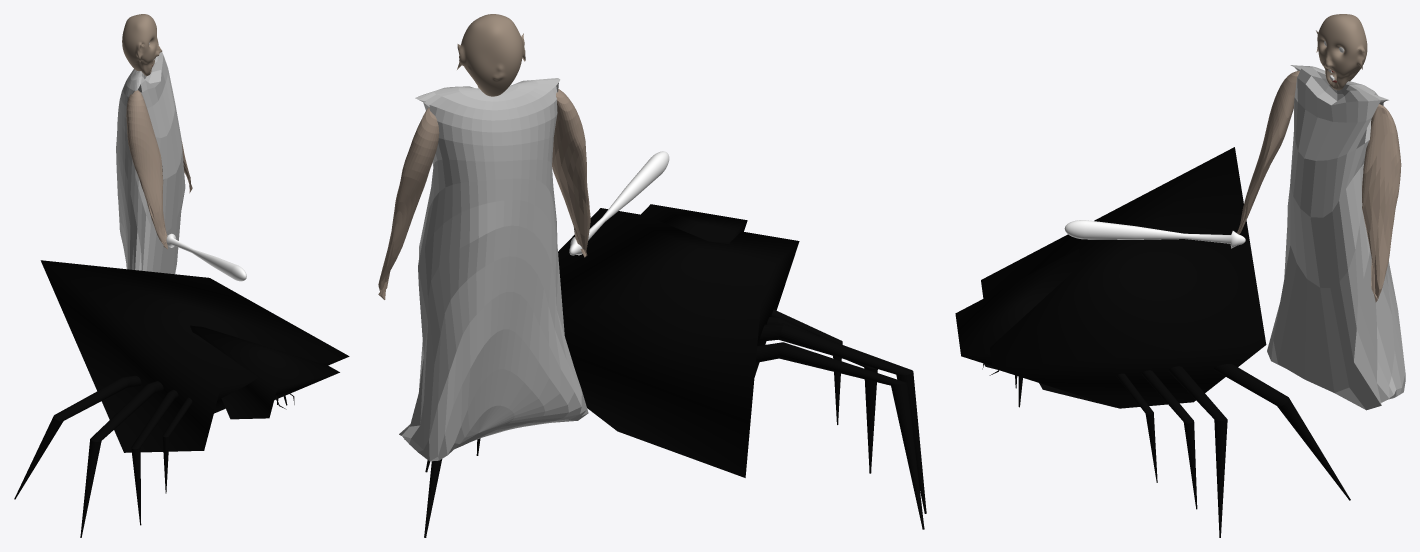
Rendered from realgranny.glb.
3 renders of one model, left to right at view 1: azimuth 30°, elevation 25°; view 2: azimuth 150°, elevation 25°; view 3: azimuth 270°, elevation 25°, orthographic. The views are drawn at different scales.
Parts seen in each view (by area): view 1: Cube.009, Sphere.005, Cube.010, Sphere.007, Sphere, Cylinder.007, Cylinder.008, Cylinder.006, Sphere.008, Cylinder.005; view 2: Sphere.005, Cube.009, Sphere, Sphere.007, Sphere.006, Cylinder.008, Cylinder.007, Cube.010, Sphere.008, Cylinder.006, Cylinder.005; view 3: Cube.009, Sphere.005, Cube.010, Sphere.006, Sphere, Sphere.007, Sphere.008, Cylinder.002, Cylinder.004, Cylinder.003, Cylinder.001.
Boxes of the visible parts, bbox=[...] form: Cube.009: bbox=[40, 260, 349, 452]; Sphere.005: bbox=[116, 52, 185, 274]; Cube.010: bbox=[190, 325, 339, 419]; Sphere.007: bbox=[126, 90, 167, 249]; Sphere: bbox=[122, 14, 162, 76]; Cylinder.007: bbox=[80, 381, 163, 537]; Cylinder.008: bbox=[14, 375, 141, 499]; Cylinder.006: bbox=[131, 389, 178, 525]; Sphere.008: bbox=[166, 233, 246, 281]; Cylinder.005: bbox=[162, 397, 192, 493]; Sphere.005: bbox=[399, 78, 588, 461]; Cube.009: bbox=[558, 208, 799, 477]; Sphere: bbox=[457, 14, 525, 96]; Sphere.007: bbox=[552, 89, 590, 257]; Sphere.006: bbox=[378, 107, 439, 299]; Cylinder.008: bbox=[755, 342, 924, 529]; Cylinder.007: bbox=[759, 323, 926, 513]; Cube.010: bbox=[641, 204, 747, 244]; Sphere.008: bbox=[569, 151, 669, 255]; Cylinder.006: bbox=[766, 317, 877, 473]; Cylinder.005: bbox=[771, 309, 842, 424]; Cube.009: bbox=[981, 147, 1266, 408]; Sphere.005: bbox=[1267, 65, 1405, 410]; Cube.010: bbox=[955, 249, 1081, 369]; Sphere.006: bbox=[1362, 104, 1401, 302]; Sphere: bbox=[1316, 14, 1367, 90]; Sphere.007: bbox=[1229, 71, 1299, 243]; Sphere.008: bbox=[1064, 220, 1245, 248]; Cylinder.002: bbox=[1213, 364, 1350, 500]; Cylinder.004: bbox=[1168, 366, 1227, 537]; Cylinder.003: bbox=[1141, 370, 1197, 509]; Cylinder.001: bbox=[1116, 373, 1157, 482].
Size of the model in its own units: 1.75 by 2.1 by 1.78.
